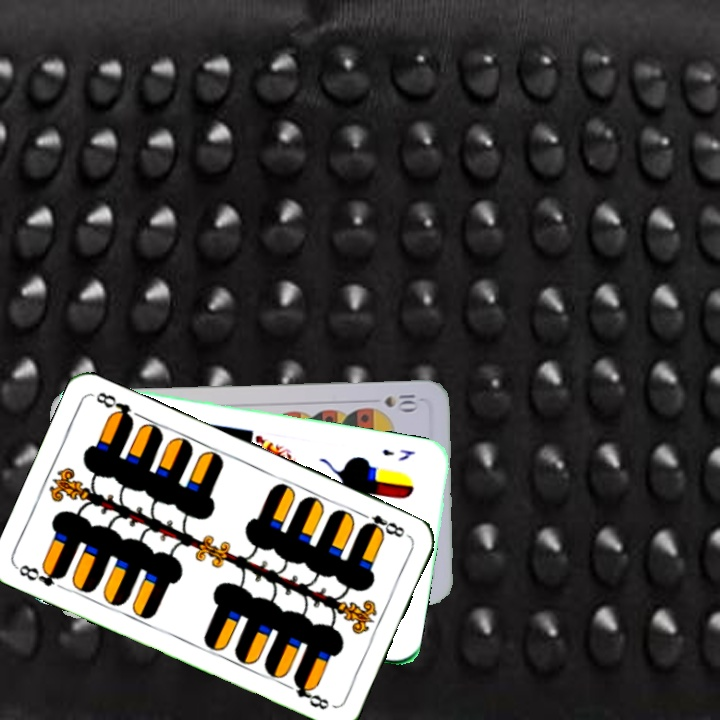E8: (355, 508, 408, 540), (13, 560, 68, 589)
EK: (378, 445, 418, 464)
S10: (380, 390, 419, 412)
